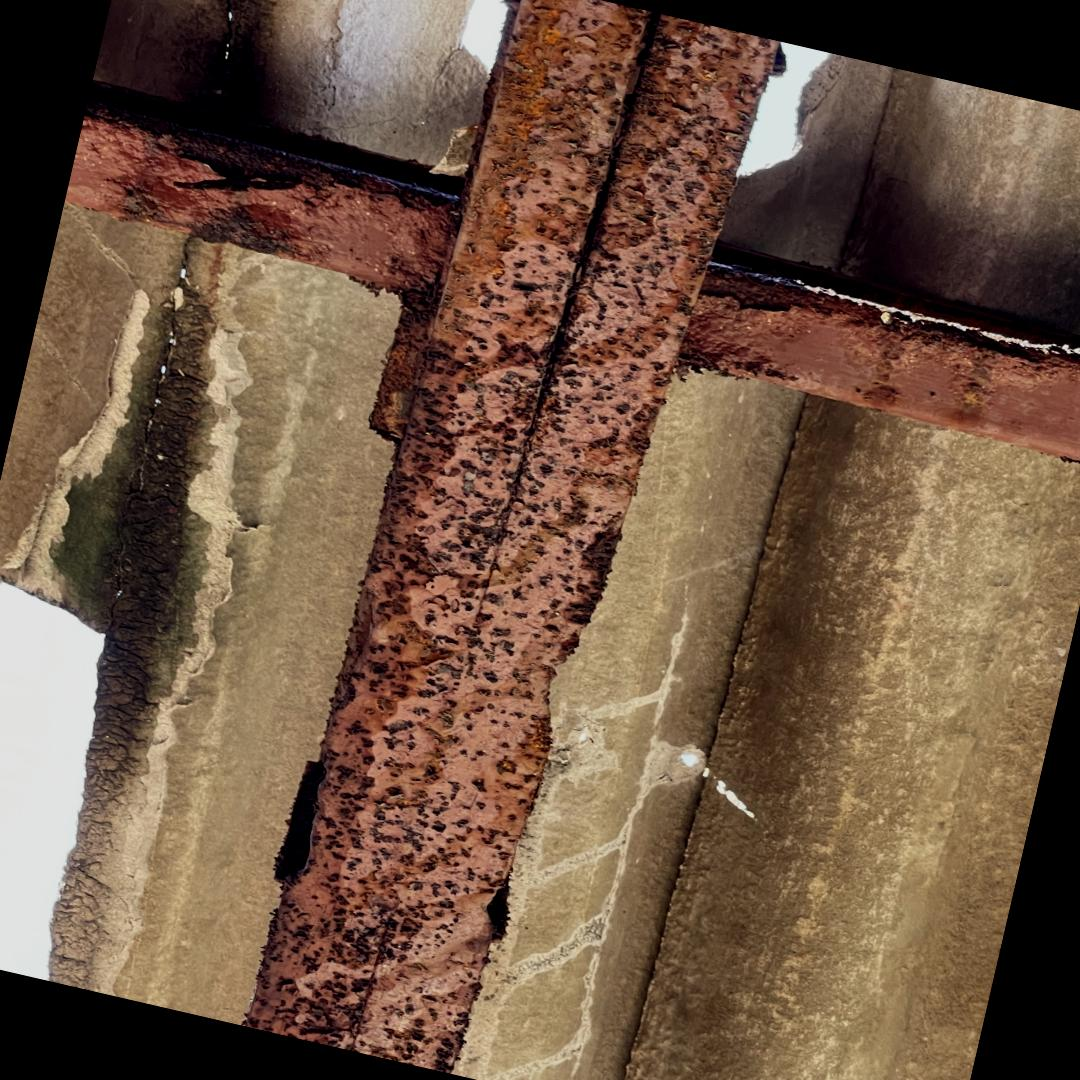Metal corroido: (63, 0, 1080, 1075)
